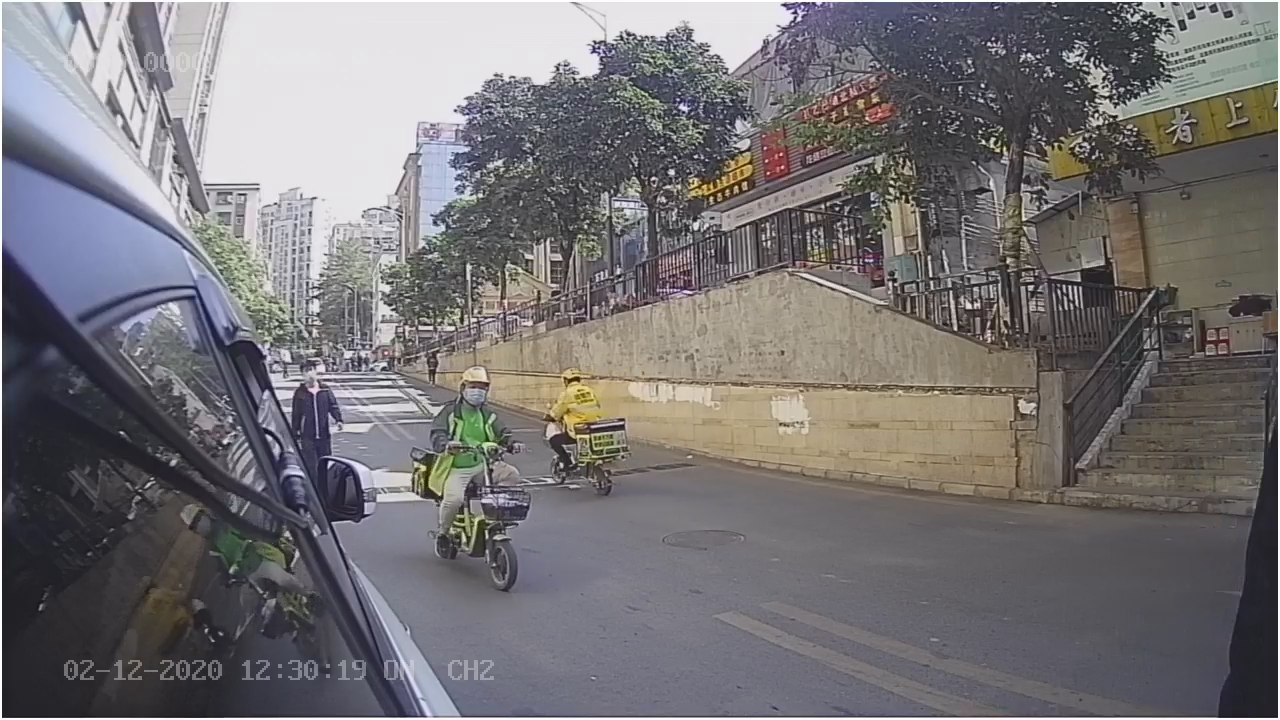person: (430, 365, 508, 454)
